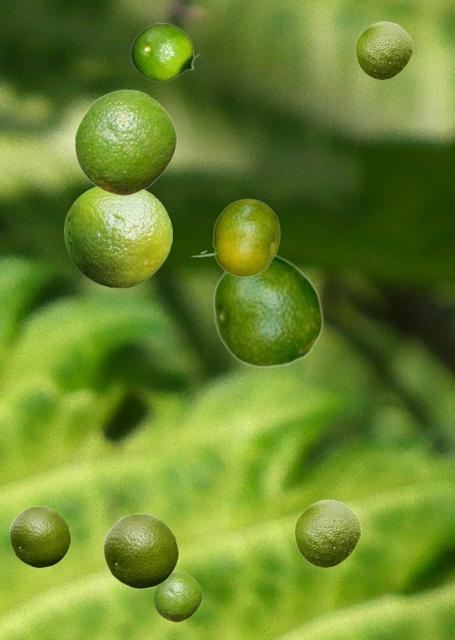calamansi: (212, 254, 323, 367), (74, 89, 176, 195), (64, 186, 171, 287), (190, 198, 279, 276), (103, 512, 178, 588), (294, 499, 360, 567), (130, 23, 200, 81), (9, 505, 70, 567), (355, 21, 412, 79), (153, 572, 201, 621)
